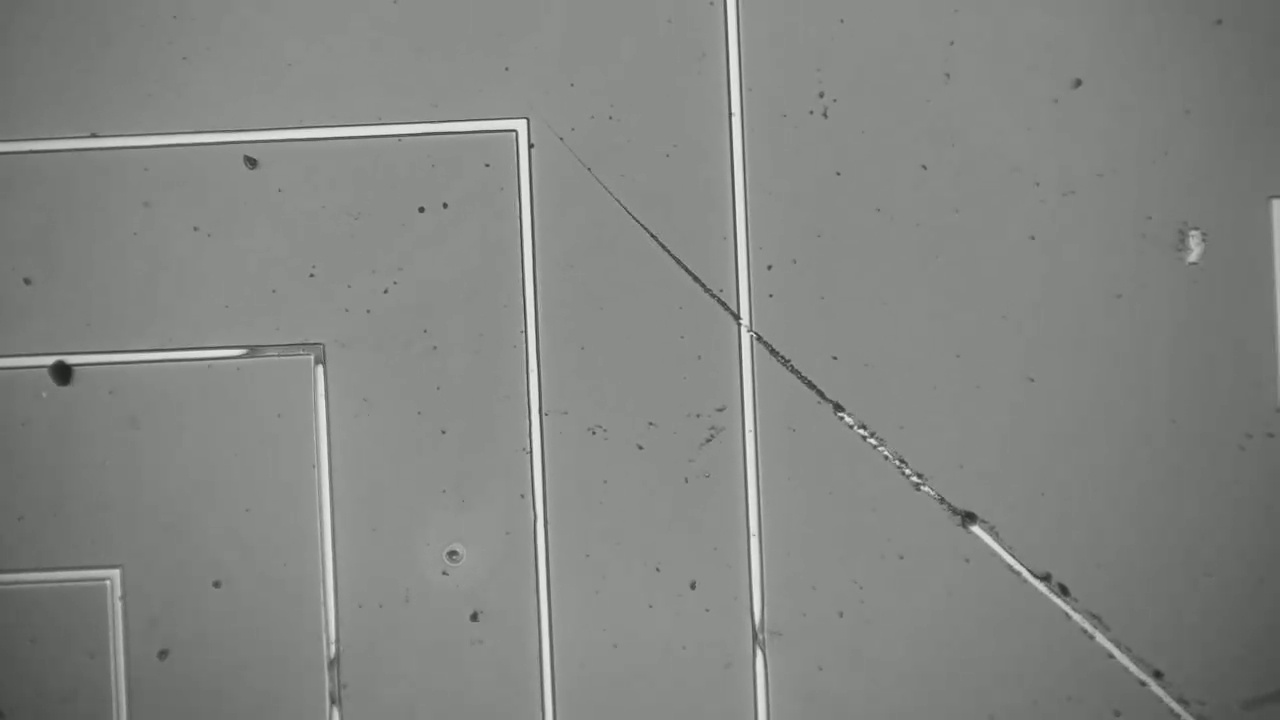gray_line: (223, 336, 336, 368), (309, 642, 350, 719), (739, 603, 777, 664), (305, 329, 334, 383)
scratch: (544, 143, 1202, 719)
stains_enbedded: (29, 334, 91, 413)
